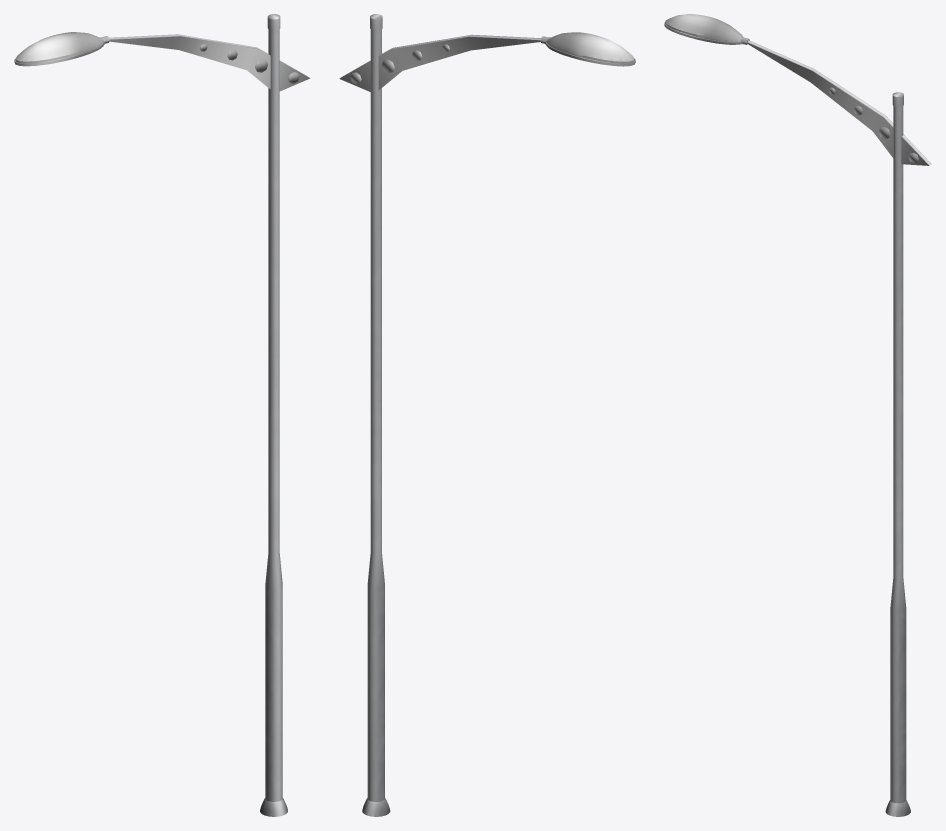
The picture shows the model from 3 angles, left to right: view 1: azimuth 30°, elevation 25°; view 2: azimuth 150°, elevation 25°; view 3: azimuth 330°, elevation 25°; orthographic projection. The views are drawn at different scales.
Visible parts, largest first — view 1: MainBuilding; view 2: MainBuilding; view 3: MainBuilding.
Boxes of the visible parts, box(x1,y1,x2,y2) form: MainBuilding: box(14, 14, 310, 816); MainBuilding: box(339, 14, 635, 816); MainBuilding: box(664, 14, 931, 816).
Size of the model in its own units: 3.12 by 8.38 by 0.336.
1 material, 1 textured.
